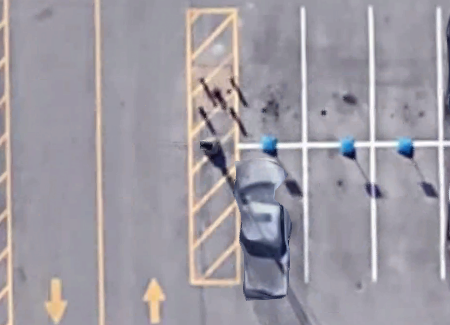Occupied: (235, 145, 307, 282)
Vacant: (234, 9, 306, 146), (371, 7, 442, 144), (303, 8, 374, 144), (372, 144, 443, 280), (304, 145, 374, 281)
